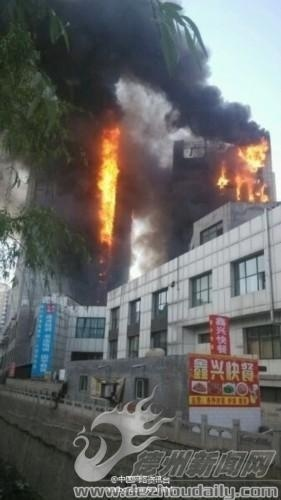fire: (93, 123, 121, 247), (215, 140, 271, 202)
